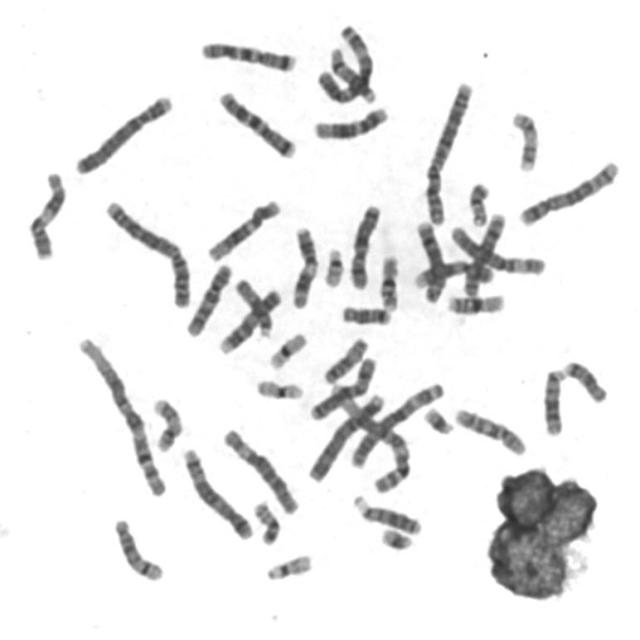A1: (73, 331, 169, 500), (324, 376, 414, 495)
A2: (101, 195, 194, 311), (420, 77, 476, 228)
A3: (346, 377, 447, 471), (313, 19, 377, 105)
B4: (70, 90, 175, 176), (304, 388, 389, 484)
B5: (514, 155, 622, 228), (179, 444, 255, 542)
C10: (450, 403, 530, 458), (182, 258, 235, 339)
C11: (25, 166, 69, 262), (287, 222, 320, 311)
C12: (204, 195, 283, 263), (309, 102, 392, 142)
C6: (219, 423, 302, 516), (446, 221, 548, 277)
C7: (215, 86, 299, 160), (195, 36, 298, 73)
C8: (460, 208, 509, 298), (411, 216, 449, 304)
C9: (216, 285, 284, 355), (408, 256, 496, 291)
D13: (349, 491, 424, 538), (539, 364, 568, 438)
D14: (109, 514, 166, 584), (326, 43, 378, 104)
D15: (232, 274, 276, 338), (320, 333, 371, 386)
E16: (443, 289, 507, 317), (376, 250, 402, 314)
E17: (508, 105, 542, 173), (148, 394, 185, 454)
E18: (560, 356, 610, 405), (337, 302, 394, 328)
F19: (266, 328, 310, 372), (252, 374, 306, 402)
F20: (250, 496, 282, 547), (465, 177, 493, 229)
G21: (419, 402, 457, 438), (376, 523, 416, 553)
G22: (261, 550, 315, 582), (320, 244, 347, 289)
X: (305, 352, 379, 422), (345, 199, 384, 292)
